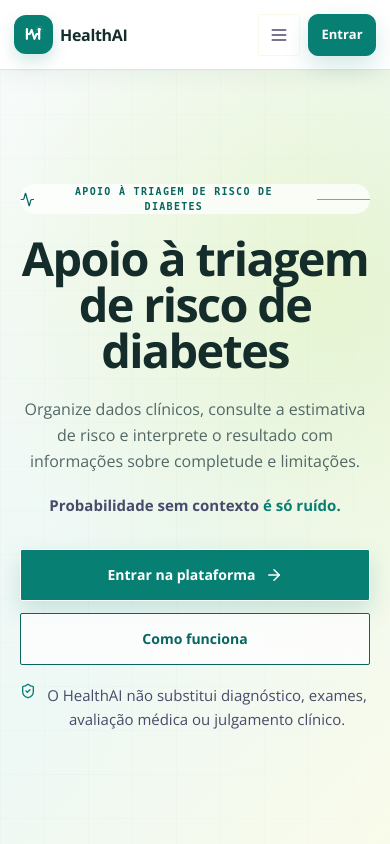
Test: AuthPage › expõe e fecha o menu público com estado acessível
The image size is (390, 844).
Click the button named "Abrir menu".
click(279, 34)  # box [258, 14, 300, 56]
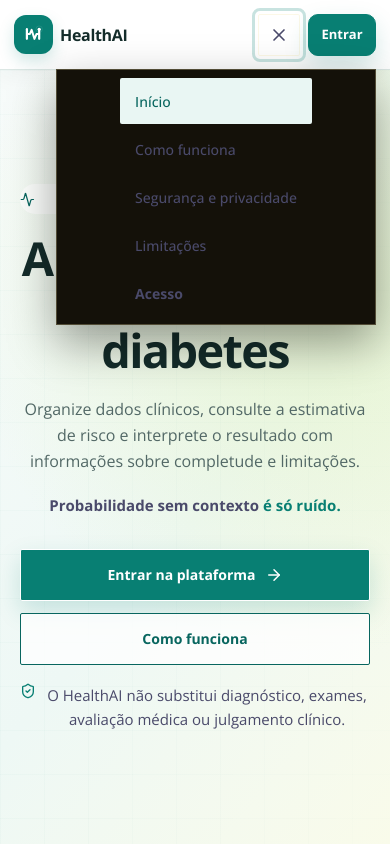
Result: the button named "Fechar menu" is expanded at [258, 14, 300, 56]
Press Escape
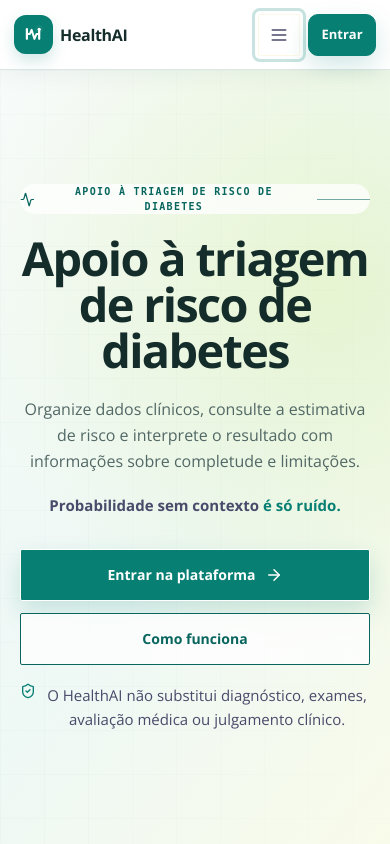
Result: the button named "Abrir menu" is collapsed at [258, 14, 300, 56]
